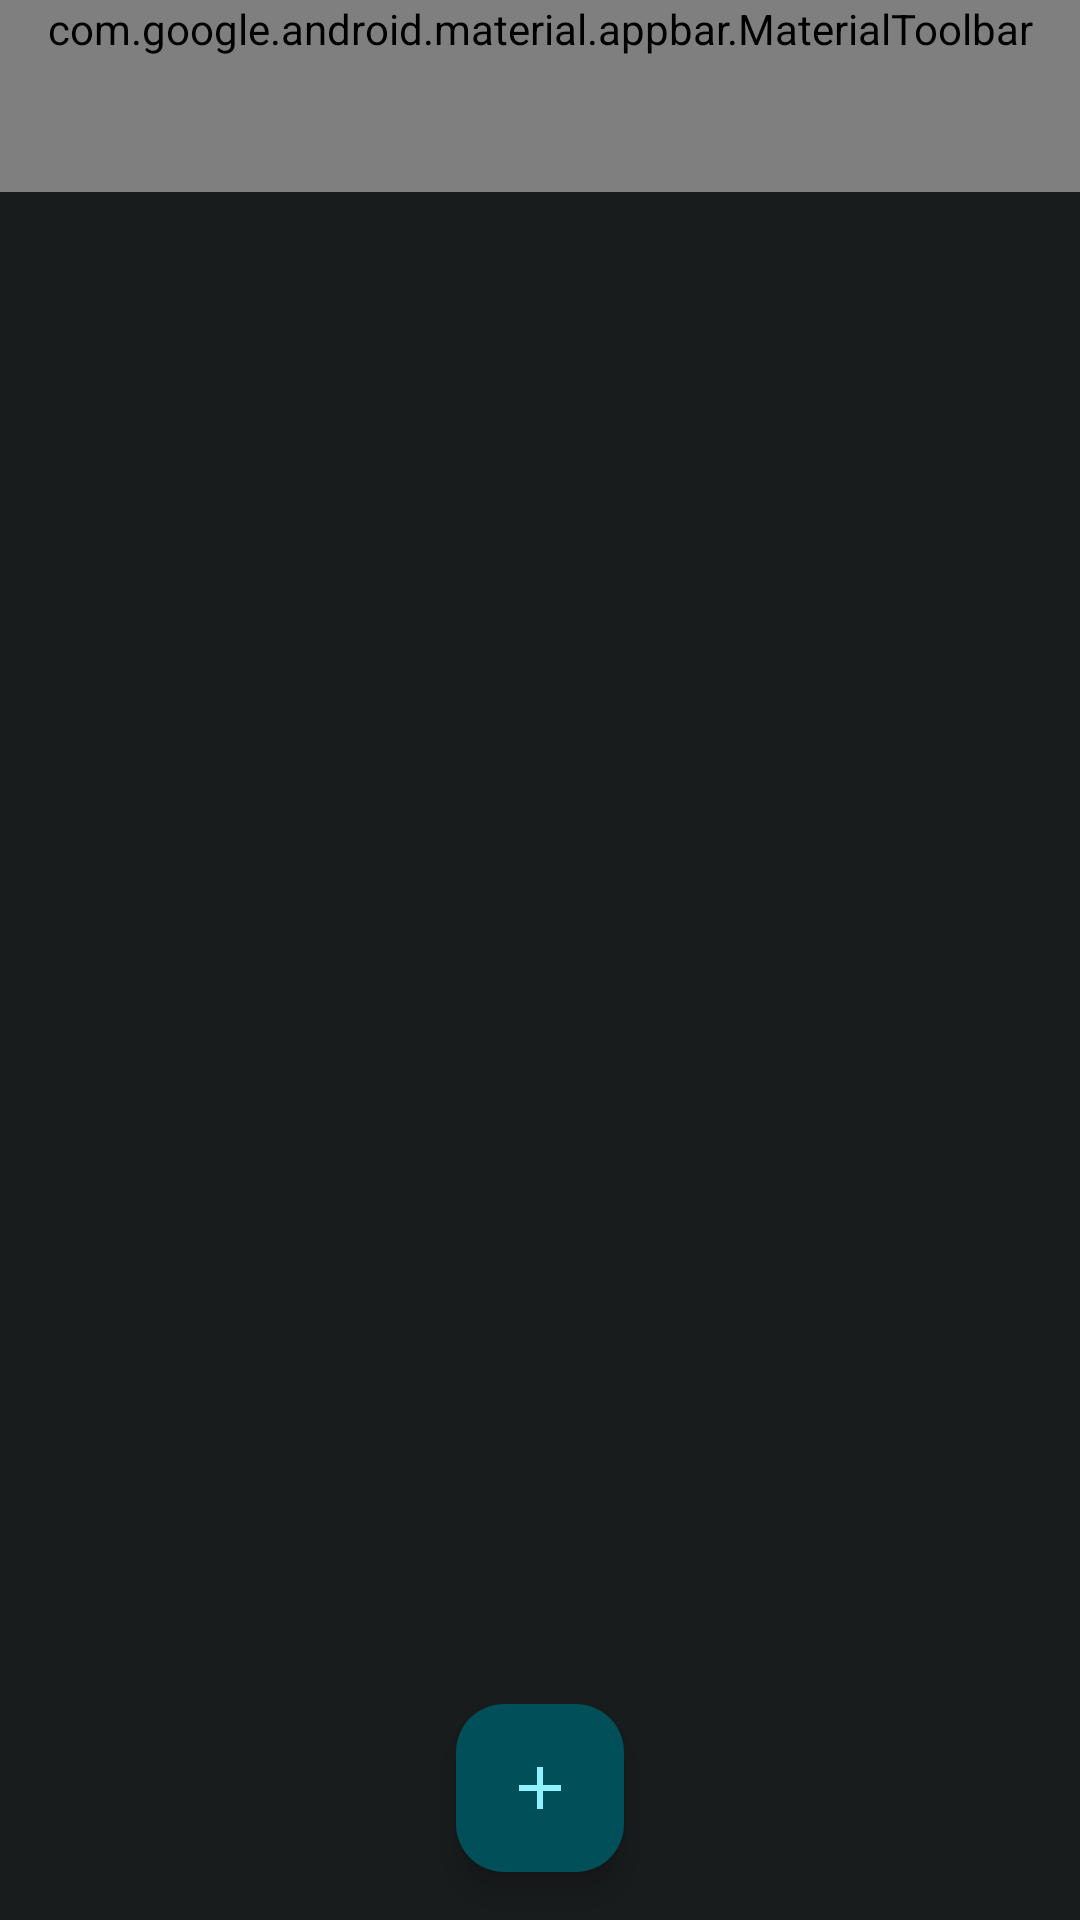

Named icons in this screenshot (1080px×1920px) and their bounding boxes, (x1=x1, y1=y1, x2=x2, y2=y2):
Add note: (x1=456, y1=1704, x2=624, y2=1872)
